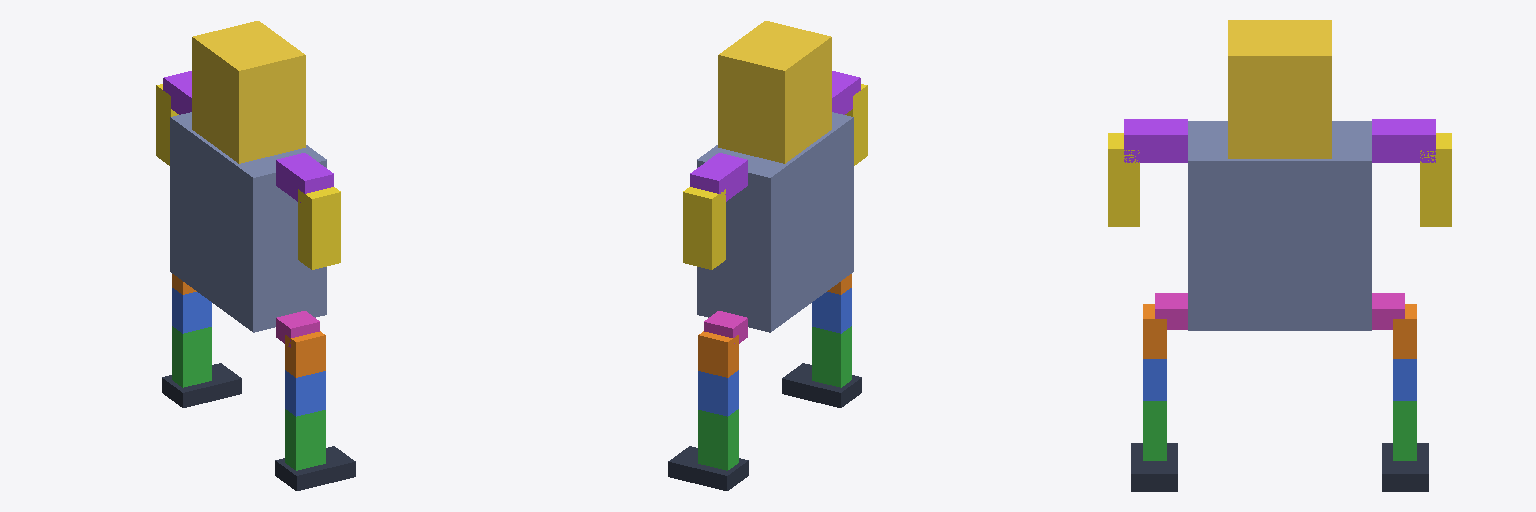
robot.urdf — pikachu_sample_14dof_links:
<?xml version="1.0" encoding="UTF-8"?>
<robot name="pikachu_sample_14dof_links">

  <!-- ============================================================ -->
  <!-- 【集中参数区】改这里即可整体调整 / 适配骨骼模型              -->
  <!-- ============================================================ -->

  <!-- ==== 躯干 / 肩 ==== -->
  
    <!-- 骨盆半宽：躯干中轴线 → 髋 pitch 关节的横向(y)距离，左右腿共用 -->
  
    <!-- 肩高：髋 pitch 平面 → 臂 pitch 关节的 z 抬升（也是躯干盒高度） -->
  
    <!-- 躯干盒 x(前后) 厚度 -->
  <!-- 躯干盒 y(左右) 宽度已绑定 pelvis_half_width*2：随骨盆联动，
       避免调整髋半宽时躯干不跟着加宽、两侧腿像架空一样 -->

  <!-- ==== 腿：骨盆横向/侧段（左右方向，一般不调） ==== -->
  
    <!-- hip_pitch→hip_roll 关节沿 y 偏移 -->
  
    <!-- hip_roll→hip_yaw 关节沿 -z 偏移（骨盆下沿） -->

  <!-- ==== 【腿纵向骨长】适配骨骼时重点调这两项 ==== -->
  
    <!-- 大腿：hip_yaw→knee 关节 沿 -z 偏移（也是该段 box 的长度） -->
  
    <!-- 小腿：knee→ankle 关节 沿 -z 偏移（也是该段 box 的长度） -->

  <!-- ==== 腿截面尺寸 ==== -->
  
    <!-- 腿 box 的 x(前后) 厚 -->
  
    <!-- 腿 box 的 y(内外) 厚 -->

  <!-- ==== 脚 ==== -->
  
  
  

  <!-- ==== 臂（fixed，不会动，只做占位） ==== -->
  
    <!-- 臂 pitch→roll 沿 y 偏移 -->
  
    <!-- 臂 roll 段：沿 -z 偏移 / 长度（14dof 版为末端，已去掉 yaw/elbow） -->
  
  

  <!-- ==== 头（原始 URDF 没有，适配骨骼时按需调整） ==== -->
  
    <!-- 头 x(前后) 尺寸 -->
  
    <!-- 头 y(左右) 尺寸 -->
  
    <!-- 头 z(上下) 尺寸 -->
  
    <!-- 头底部 相对躯干顶(z=shoulder_height) 的额外抬升，>=0 -->

  <!-- ==== 手臂 / 头 关节限位（把 fixed 改成 revolute 后可驱动） ==== -->
  
    <!-- 臂 pitch/roll 的关节下限（弧度） -->
  
    <!-- 臂 pitch/roll 的关节上限（弧度） -->
  
    <!-- 头关节下限（弧度） -->
  
    <!-- 头关节上限（弧度） -->

  <!-- ==== 材质（仅便于视觉区分；相邻关节用不同色，左右对称） ==== -->
  
    <!-- 躯干：淡蓝灰 -->
  
    <!-- 头：亮黄 -->
  
    <!-- 腿段A(hip_pitch)：品红 -->
  
    <!-- 腿段B(hip_roll)：橙 -->
  
    <!-- 腿段C(hip_yaw 大腿)：蓝 -->
  
    <!-- 腿段D(knee 小腿)：绿 -->
  
    <!-- 腿段E(ankle 脚)：深灰蓝 -->
  
    <!-- 臂段A(arm_pitch 肩)：紫 -->
  
    <!-- 臂段B(arm_roll 上臂，14dof 末端)：黄 -->

  <!-- ============================================================ -->
  <!-- 材质定义（每段独立颜色，左右对称共用同一套）              -->
  <!-- ============================================================ -->
  <material name="torso_blue">
    <color rgba="0.55 0.60 0.75 1"/>
  </material>
  <material name="head_yellow">
    <color rgba="0.98 0.85 0.30 1"/>
  </material>
  <material name="leg_hip_pitch">
    <color rgba="0.90 0.35 0.80 1"/>
  </material>
  <material name="leg_hip_roll">
    <color rgba="1.00 0.60 0.20 1"/>
  </material>
  <material name="leg_hip_yaw">
    <color rgba="0.35 0.55 1.00 1"/>
  </material>
  <material name="leg_knee">
    <color rgba="0.30 0.80 0.35 1"/>
  </material>
  <material name="leg_ankle">
    <color rgba="0.25 0.28 0.35 1"/>
  </material>
  <material name="arm_pitch">
    <color rgba="0.75 0.35 1.00 1"/>
  </material>
  <material name="arm_roll">
    <color rgba="1.00 0.90 0.25 1"/>
  </material>

  <!-- ============================================================ -->
  <!-- 腿部宏：生成 pitch/roll/yaw/knee/ankle 五个 link             -->
  <!--   side: left | right     sn:  1 | -1（y 方向符号）      -->
  <!-- ============================================================ -->
  

  <!-- ============================================================ -->
  <!-- 手臂宏：只生成 pitch → roll 两个 link（14dof，全部 revolute 可动） -->
  <!-- ============================================================ -->
  

  <!-- ============================================================ -->
  <!-- base_link：躯干（含 4 个与躯干相连的 base 关节）           -->
  <!-- ============================================================ -->
  <link name="base_link">
    <visual>
      <origin xyz="0 0 0.1" rpy="0 0 0"/>
      <geometry>
        <box size="0.1 0.1948 0.2"/>
      </geometry>
      <material name="torso_blue"/>
    </visual>
  <inertial><origin xyz="0.000000000 0.000000000 0.100000000" rpy="0.000000000 0.000000000 0.000000000"/><mass value="5.84400"/><inertia ixx="0.037960" iyy="0.024350" izz="0.023350" ixy="0" ixz="0" iyz="0"/></inertial></link>

  <!-- 头部：base_link → head_link（固定，立在躯干顶上） -->
  <joint name="head_joint" type="revolute">
    <origin xyz="0 0 0.26" rpy="0 0 0"/>
    <parent link="base_link"/>
    <child link="head_link"/>
    <!-- 默认绕 y 轴＝点头；若想左右转头，把 axis 改成 "0 0 1" -->
    <axis xyz="0 1 0"/>
    <limit lower="-0.8" upper="0.8" effort="2.0" velocity="2"/>
  </joint>
  <link name="head_link">
    <visual>
      <origin xyz="0 0 0" rpy="0 0 0"/>
      <geometry>
        <box size="0.09 0.11 0.12"/>
      </geometry>
      <material name="head_yellow"/>
    </visual>
  <inertial><origin xyz="0.000000000 0.000000000 0.000000000" rpy="0.000000000 0.000000000 0.000000000"/><mass value="1.78200"/><inertia ixx="0.003935" iyy="0.003341" izz="0.003000" ixy="0" ixz="0" iyz="0"/></inertial></link>

  <!-- 髋 pitch：型→left_hip_pitch_link / right_hip_pitch_link -->
  <joint name="left_hip_pitch_joint" type="revolute">
    <origin xyz="0 0.0974 0" rpy="0 0 0"/>
    <parent link="base_link"/>
    <child link="left_hip_pitch_link"/>
    <axis xyz="0 -1 0"/>
    <limit lower="0" upper="2.44" effort="12.5" velocity="2"/>
  </joint>
  <joint name="right_hip_pitch_joint" type="revolute">
    <origin xyz="0 -0.0974 0" rpy="0 0 0"/>
    <parent link="base_link"/>
    <child link="right_hip_pitch_link"/>
    <axis xyz="0 -1 0"/>
    <limit lower="0" upper="2.44" effort="12.5" velocity="2"/>
  </joint>

  <!-- 臂 pitch：型→left/right_arm_pitch_link（固定，抬升 shoulder_height） -->
  <joint name="left_arm_pitch_joint" type="revolute">
    <origin xyz="0 0.0974 0.2" rpy="0 0 0"/>
    <parent link="base_link"/>
    <child link="left_arm_pitch_link"/>
    <axis xyz="0 -1 0"/>
    <limit lower="-1.57" upper="1.57" effort="2.0" velocity="2"/>
  </joint>
  <joint name="right_arm_pitch_joint" type="revolute">
    <origin xyz="0 -0.0974 0.2" rpy="0 0 0"/>
    <parent link="base_link"/>
    <child link="right_arm_pitch_link"/>
    <axis xyz="0 -1 0"/>
    <limit lower="-1.57" upper="1.57" effort="2.0" velocity="2"/>
  </joint>

  <!-- ============================================================ -->
  <!-- 组装：左腿 / 右腿 / 左臂 / 右臂                           -->
  <!-- ============================================================ -->
  
    <!-- hip_pitch_link：覆盖到 roll 的横向(y)段 -->
    <link name="left_hip_pitch_link">
      <visual>
        <origin xyz="0 0.01775 0" rpy="0 0 0"/>
        <geometry>
          <box size="0.04 0.0355 0.025"/>
        </geometry>
        <material name="leg_hip_pitch"/>
      </visual>
    <inertial><origin xyz="0.000000000 0.017750000 0.000000000" rpy="0.000000000 0.000000000 0.000000000"/><mass value="0.05325"/><inertia ixx="0.000008" iyy="0.000010" izz="0.000013" ixy="0" ixz="0" iyz="0"/></inertial></link>

    <joint name="left_hip_roll_joint" type="revolute">
      <origin xyz="0 0.0355 0" rpy="0 0 0"/>
      <parent link="left_hip_pitch_link"/>
      <child link="left_hip_roll_link"/>
      <axis xyz="1 0 0"/>
      <limit lower="-0.09" upper="0.26" effort="9.0" velocity="1"/>
    </joint>

    <!-- hip_roll_link：覆盖到 yaw 的 -z 骨盆段 -->
    <link name="left_hip_roll_link">
      <visual>
        <origin xyz="0 0 -0.023" rpy="0 0 0"/>
        <geometry>
          <box size="0.04 0.025 0.046"/>
        </geometry>
        <material name="leg_hip_roll"/>
      </visual>
    <inertial><origin xyz="0.000000000 0.000000000 -0.023000000" rpy="0.000000000 0.000000000 0.000000000"/><mass value="0.06900"/><inertia ixx="0.000016" iyy="0.000021" izz="0.000013" ixy="0" ixz="0" iyz="0"/></inertial></link>

    <joint name="left_hip_yaw_joint" type="revolute">
      <origin xyz="0 0 -0.046" rpy="0 0 0"/>
      <parent link="left_hip_roll_link"/>
      <child link="left_hip_yaw_link"/>
      <axis xyz="0 0 1"/>
      <limit lower="-0.09" upper="0.26" effort="9.0" velocity="1"/>
    </joint>

    <!-- hip_yaw_link：大腿段（thigh_length） -->
    <link name="left_hip_yaw_link">
      <visual>
        <origin xyz="0 0 -0.02505" rpy="0 0 0"/>
        <geometry>
          <box size="0.04 0.025 0.0501"/>
        </geometry>
        <material name="leg_hip_yaw"/>
      </visual>
    <inertial><origin xyz="0.000000000 0.000000000 -0.025050000" rpy="0.000000000 0.000000000 0.000000000"/><mass value="0.07515"/><inertia ixx="0.000020" iyy="0.000026" izz="0.000014" ixy="0" ixz="0" iyz="0"/></inertial></link>

    <joint name="left_knee_joint" type="revolute">
      <origin xyz="0 0 -0.0501" rpy="0 0 0"/>
      <parent link="left_hip_yaw_link"/>
      <child link="left_knee_link"/>
      <axis xyz="0 1 0"/>
      <limit lower="0" upper="1.57" effort="12.5" velocity="3"/>
    </joint>

    <!-- knee_link：小腿段（shank_length） -->
    <link name="left_knee_link">
      <visual>
        <origin xyz="0 0 -0.035" rpy="0 0 0"/>
        <geometry>
          <box size="0.04 0.025 0.07"/>
        </geometry>
        <material name="leg_knee"/>
      </visual>
    <inertial><origin xyz="0.000000000 0.000000000 -0.035000000" rpy="0.000000000 0.000000000 0.000000000"/><mass value="0.10500"/><inertia ixx="0.000048" iyy="0.000057" izz="0.000019" ixy="0" ixz="0" iyz="0"/></inertial></link>

    <joint name="left_ankle_joint" type="revolute">
      <origin xyz="0 0 -0.07" rpy="0 0 0"/>
      <parent link="left_knee_link"/>
      <child link="left_ankle_link"/>
      <axis xyz="0 -1 0"/>
      <limit lower="-0.52" upper="1.05" effort="9.0" velocity="2"/>
    </joint>

    <!-- ankle_link：脚掌（末端） -->
    <link name="left_ankle_link">
      <visual>
        <origin xyz="0.013333333333333334 0 -0.01" rpy="0 0 0"/>
        <geometry>
          <box size="0.08 0.05 0.02"/>
        </geometry>
        <material name="leg_ankle"/>
      </visual>
    <inertial><origin xyz="0.013333333 0.000000000 -0.010000000" rpy="0.000000000 0.000000000 0.000000000"/><mass value="0.12000"/><inertia ixx="0.000029" iyy="0.000068" izz="0.000089" ixy="0" ixz="0" iyz="0"/></inertial></link>
  
  
    <!-- hip_pitch_link：覆盖到 roll 的横向(y)段 -->
    <link name="right_hip_pitch_link">
      <visual>
        <origin xyz="0 -0.01775 0" rpy="0 0 0"/>
        <geometry>
          <box size="0.04 0.0355 0.025"/>
        </geometry>
        <material name="leg_hip_pitch"/>
      </visual>
    <inertial><origin xyz="0.000000000 -0.017750000 0.000000000" rpy="0.000000000 0.000000000 0.000000000"/><mass value="0.05325"/><inertia ixx="0.000008" iyy="0.000010" izz="0.000013" ixy="0" ixz="0" iyz="0"/></inertial></link>

    <joint name="right_hip_roll_joint" type="revolute">
      <origin xyz="0 -0.0355 0" rpy="0 0 0"/>
      <parent link="right_hip_pitch_link"/>
      <child link="right_hip_roll_link"/>
      <axis xyz="-1 0 0"/>
      <limit lower="-0.09" upper="0.26" effort="9.0" velocity="1"/>
    </joint>

    <!-- hip_roll_link：覆盖到 yaw 的 -z 骨盆段 -->
    <link name="right_hip_roll_link">
      <visual>
        <origin xyz="0 0 -0.023" rpy="0 0 0"/>
        <geometry>
          <box size="0.04 0.025 0.046"/>
        </geometry>
        <material name="leg_hip_roll"/>
      </visual>
    <inertial><origin xyz="0.000000000 0.000000000 -0.023000000" rpy="0.000000000 0.000000000 0.000000000"/><mass value="0.06900"/><inertia ixx="0.000016" iyy="0.000021" izz="0.000013" ixy="0" ixz="0" iyz="0"/></inertial></link>

    <joint name="right_hip_yaw_joint" type="revolute">
      <origin xyz="0 0 -0.046" rpy="0 0 0"/>
      <parent link="right_hip_roll_link"/>
      <child link="right_hip_yaw_link"/>
      <axis xyz="0 0 -1"/>
      <limit lower="-0.09" upper="0.26" effort="9.0" velocity="1"/>
    </joint>

    <!-- hip_yaw_link：大腿段（thigh_length） -->
    <link name="right_hip_yaw_link">
      <visual>
        <origin xyz="0 0 -0.02505" rpy="0 0 0"/>
        <geometry>
          <box size="0.04 0.025 0.0501"/>
        </geometry>
        <material name="leg_hip_yaw"/>
      </visual>
    <inertial><origin xyz="0.000000000 0.000000000 -0.025050000" rpy="0.000000000 0.000000000 0.000000000"/><mass value="0.07515"/><inertia ixx="0.000020" iyy="0.000026" izz="0.000014" ixy="0" ixz="0" iyz="0"/></inertial></link>

    <joint name="right_knee_joint" type="revolute">
      <origin xyz="0 0 -0.0501" rpy="0 0 0"/>
      <parent link="right_hip_yaw_link"/>
      <child link="right_knee_link"/>
      <axis xyz="0 1 0"/>
      <limit lower="0" upper="1.57" effort="12.5" velocity="3"/>
    </joint>

    <!-- knee_link：小腿段（shank_length） -->
    <link name="right_knee_link">
      <visual>
        <origin xyz="0 0 -0.035" rpy="0 0 0"/>
        <geometry>
          <box size="0.04 0.025 0.07"/>
        </geometry>
        <material name="leg_knee"/>
      </visual>
    <inertial><origin xyz="0.000000000 0.000000000 -0.035000000" rpy="0.000000000 0.000000000 0.000000000"/><mass value="0.10500"/><inertia ixx="0.000048" iyy="0.000057" izz="0.000019" ixy="0" ixz="0" iyz="0"/></inertial></link>

    <joint name="right_ankle_joint" type="revolute">
      <origin xyz="0 0 -0.07" rpy="0 0 0"/>
      <parent link="right_knee_link"/>
      <child link="right_ankle_link"/>
      <axis xyz="0 -1 0"/>
      <limit lower="-0.52" upper="1.05" effort="9.0" velocity="2"/>
    </joint>

    <!-- ankle_link：脚掌（末端） -->
    <link name="right_ankle_link">
      <visual>
        <origin xyz="0.013333333333333334 0 -0.01" rpy="0 0 0"/>
        <geometry>
          <box size="0.08 0.05 0.02"/>
        </geometry>
        <material name="leg_ankle"/>
      </visual>
    <inertial><origin xyz="0.013333333 0.000000000 -0.010000000" rpy="0.000000000 0.000000000 0.000000000"/><mass value="0.12000"/><inertia ixx="0.000029" iyy="0.000068" izz="0.000089" ixy="0" ixz="0" iyz="0"/></inertial></link>
  

  
    <!-- arm_pitch_link：覆盖到 roll 的横向(y)段 -->
    <link name="left_arm_pitch_link">
      <visual>
        <origin xyz="0 0.0341 0" rpy="0 0 0"/>
        <geometry>
          <box size="0.0399 0.0682 0.0333"/>
        </geometry>
        <material name="arm_pitch"/>
      </visual>
    <inertial><origin xyz="0.000000000 0.034100000 0.000000000" rpy="0.000000000 0.000000000 0.000000000"/><mass value="0.13592"/><inertia ixx="0.000065" iyy="0.000031" izz="0.000071" ixy="0" ixz="0" iyz="0"/></inertial></link>

    <joint name="left_arm_roll_joint" type="revolute">
      <origin xyz="0 0.0682 0" rpy="0 0 0"/>
      <parent link="left_arm_pitch_link"/>
      <child link="left_arm_roll_link"/>
      <axis xyz="1 0 0"/>
      <limit lower="-1.57" upper="1.57" effort="2.0" velocity="2"/>
    </joint>

    <!-- arm_roll_link：下臂/末端段（arm_upper_z）——14dof 版已去掉 yaw/elbow -->
    <link name="left_arm_roll_link">
      <visual>
        <origin xyz="0 0 -0.0459" rpy="0 0 0"/>
        <geometry>
          <box size="0.0399 0.0333 0.0918"/>
        </geometry>
        <material name="arm_roll"/>
      </visual>
    <inertial><origin xyz="0.000000000 0.000000000 -0.045900000" rpy="0.000000000 0.000000000 0.000000000"/><mass value="0.18296"/><inertia ixx="0.000145" iyy="0.000153" izz="0.000041" ixy="0" ixz="0" iyz="0"/></inertial></link>
  
  
    <!-- arm_pitch_link：覆盖到 roll 的横向(y)段 -->
    <link name="right_arm_pitch_link">
      <visual>
        <origin xyz="0 -0.0341 0" rpy="0 0 0"/>
        <geometry>
          <box size="0.0399 0.0682 0.0333"/>
        </geometry>
        <material name="arm_pitch"/>
      </visual>
    <inertial><origin xyz="0.000000000 -0.034100000 0.000000000" rpy="0.000000000 0.000000000 0.000000000"/><mass value="0.13592"/><inertia ixx="0.000065" iyy="0.000031" izz="0.000071" ixy="0" ixz="0" iyz="0"/></inertial></link>

    <joint name="right_arm_roll_joint" type="revolute">
      <origin xyz="0 -0.0682 0" rpy="0 0 0"/>
      <parent link="right_arm_pitch_link"/>
      <child link="right_arm_roll_link"/>
      <axis xyz="-1 0 0"/>
      <limit lower="-1.57" upper="1.57" effort="2.0" velocity="2"/>
    </joint>

    <!-- arm_roll_link：下臂/末端段（arm_upper_z）——14dof 版已去掉 yaw/elbow -->
    <link name="right_arm_roll_link">
      <visual>
        <origin xyz="0 0 -0.0459" rpy="0 0 0"/>
        <geometry>
          <box size="0.0399 0.0333 0.0918"/>
        </geometry>
        <material name="arm_roll"/>
      </visual>
    <inertial><origin xyz="0.000000000 0.000000000 -0.045900000" rpy="0.000000000 0.000000000 0.000000000"/><mass value="0.18296"/><inertia ixx="0.000145" iyy="0.000153" izz="0.000041" ixy="0" ixz="0" iyz="0"/></inertial></link>
  

</robot>

--- Render facts (derived) ---
Views: 3 orthographic renders of the robot side by side, from view 1: azimuth 30°, elevation 25°; view 2: azimuth 150°, elevation 25°; view 3: azimuth 270°, elevation 25°.
Model pikachu_sample_14dof_links with 16 links and 15 joints (15 revolute), rooted at base_link, posed all joints at 0.
Links seen in each view (by area): view 1: base_link, head_link, right_arm_roll_link, right_knee_link, left_knee_link, right_ankle_link, left_ankle_link, right_arm_pitch_link, right_hip_roll_link, right_hip_yaw_link, left_hip_yaw_link, left_arm_roll_link (+2 smaller); view 2: base_link, head_link, left_arm_roll_link, left_knee_link, right_knee_link, left_ankle_link, right_ankle_link, left_arm_pitch_link, left_hip_roll_link, left_hip_yaw_link, right_hip_yaw_link, right_arm_roll_link (+2 smaller); view 3: base_link, head_link, right_arm_pitch_link, left_arm_pitch_link, left_arm_roll_link, right_arm_roll_link, left_ankle_link, right_ankle_link, left_knee_link, right_knee_link, left_hip_roll_link, right_hip_roll_link (+4 smaller).
Link boxes in pixels (x1=…): base_link: x1=170, y1=112, x2=326, y2=332; head_link: x1=192, y1=21, x2=305, y2=163; right_arm_roll_link: x1=298, y1=187, x2=340, y2=269; right_knee_link: x1=285, y1=409, x2=325, y2=470; left_knee_link: x1=172, y1=326, x2=211, y2=387; right_ankle_link: x1=275, y1=446, x2=355, y2=490; left_ankle_link: x1=162, y1=363, x2=241, y2=407; right_arm_pitch_link: x1=276, y1=153, x2=333, y2=202; right_hip_roll_link: x1=285, y1=331, x2=325, y2=377; right_hip_yaw_link: x1=285, y1=370, x2=325, y2=416; left_hip_yaw_link: x1=172, y1=288, x2=211, y2=333; left_arm_roll_link: x1=156, y1=84, x2=178, y2=165; base_link: x1=697, y1=112, x2=853, y2=332; head_link: x1=718, y1=21, x2=831, y2=163; left_arm_roll_link: x1=683, y1=187, x2=725, y2=269; left_knee_link: x1=698, y1=409, x2=738, y2=470; right_knee_link: x1=812, y1=326, x2=851, y2=387; left_ankle_link: x1=668, y1=446, x2=748, y2=490; right_ankle_link: x1=782, y1=363, x2=861, y2=407; left_arm_pitch_link: x1=690, y1=153, x2=747, y2=201; left_hip_roll_link: x1=698, y1=331, x2=738, y2=377; left_hip_yaw_link: x1=698, y1=370, x2=738, y2=416; right_hip_yaw_link: x1=812, y1=288, x2=851, y2=333; right_arm_roll_link: x1=845, y1=84, x2=867, y2=165; base_link: x1=1188, y1=121, x2=1371, y2=330; head_link: x1=1228, y1=20, x2=1331, y2=158; right_arm_pitch_link: x1=1124, y1=119, x2=1187, y2=162; left_arm_pitch_link: x1=1372, y1=119, x2=1435, y2=162; left_arm_roll_link: x1=1420, y1=133, x2=1451, y2=226; right_arm_roll_link: x1=1108, y1=133, x2=1139, y2=226; left_ankle_link: x1=1382, y1=443, x2=1428, y2=491; right_ankle_link: x1=1131, y1=443, x2=1177, y2=491; left_knee_link: x1=1393, y1=401, x2=1416, y2=460; right_knee_link: x1=1143, y1=401, x2=1166, y2=460; left_hip_roll_link: x1=1393, y1=304, x2=1416, y2=358; right_hip_roll_link: x1=1143, y1=304, x2=1166, y2=358.
Bounding box of the posed robot: 0.1033 × 0.3645 × 0.5061 m (x, y, z).
Geometry: primitives only (box / cylinder / sphere), no mesh files.
